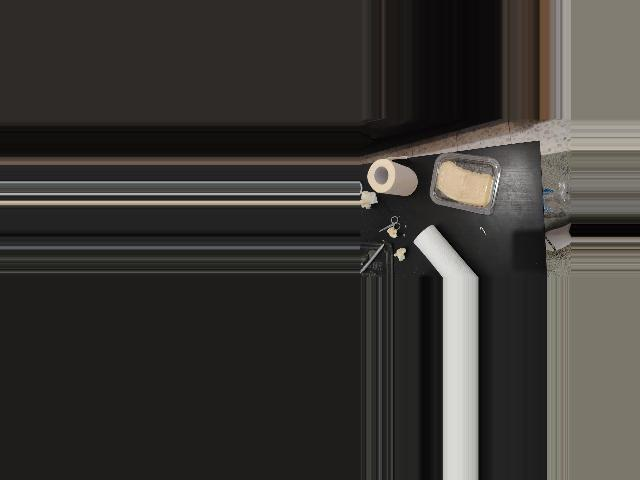cheese: (429, 157, 501, 212)
